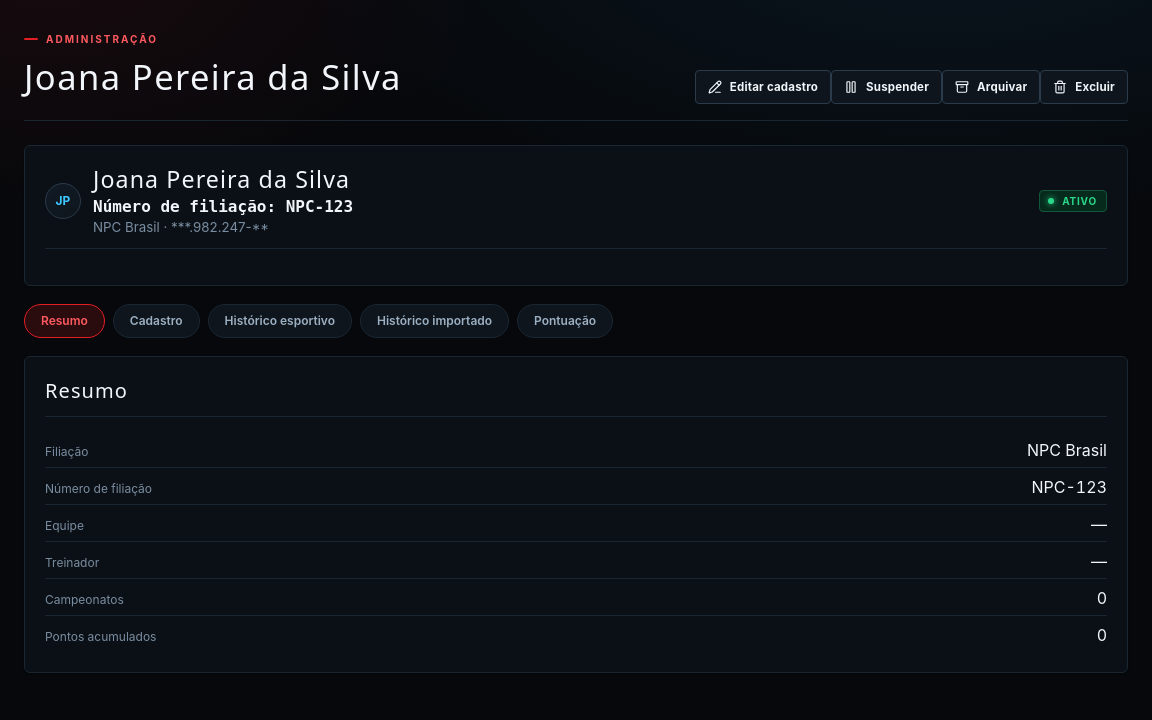
Test: a coluna de pontos diz a pontuação oficial, não a do arquivo › o campeonato vem do lançamento, e vence o nome digitado no arquivo
The width and height of the screenshot is (1152, 720).
Click the button "Histórico importado".
click(435, 321)  # box top-left (360, 304), bottom-right (509, 338)
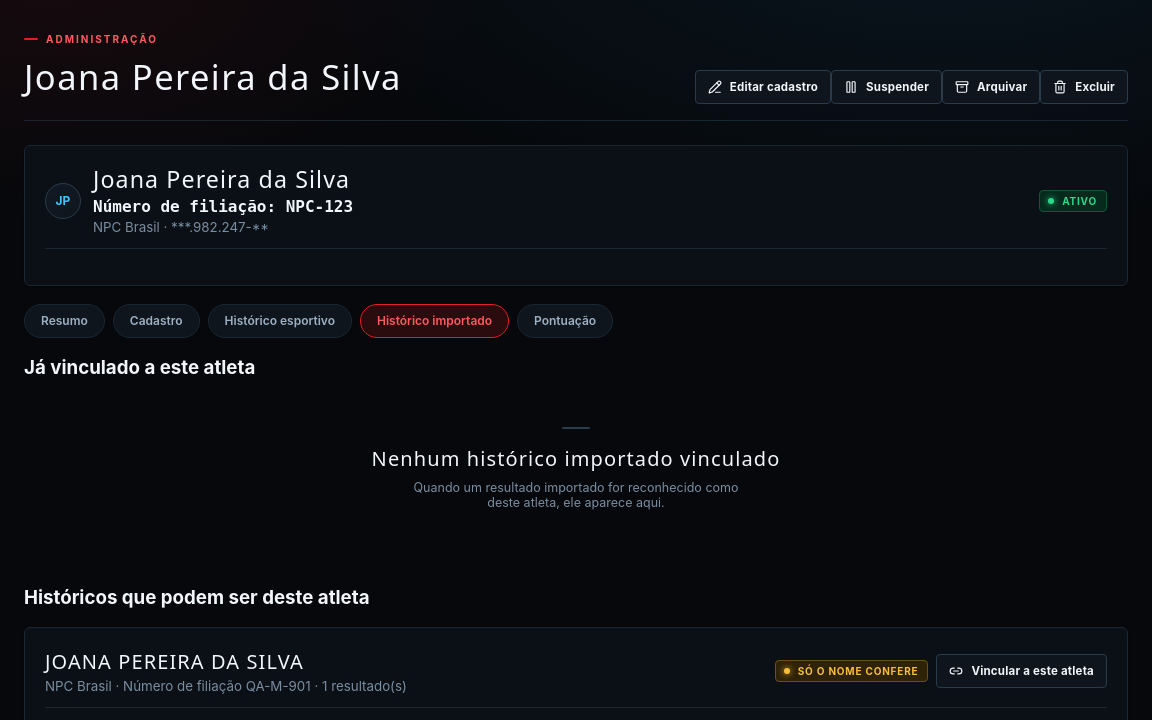
Click the button "Vincular a este atleta".
click(1022, 671)  # box top-left (936, 654), bottom-right (1107, 688)
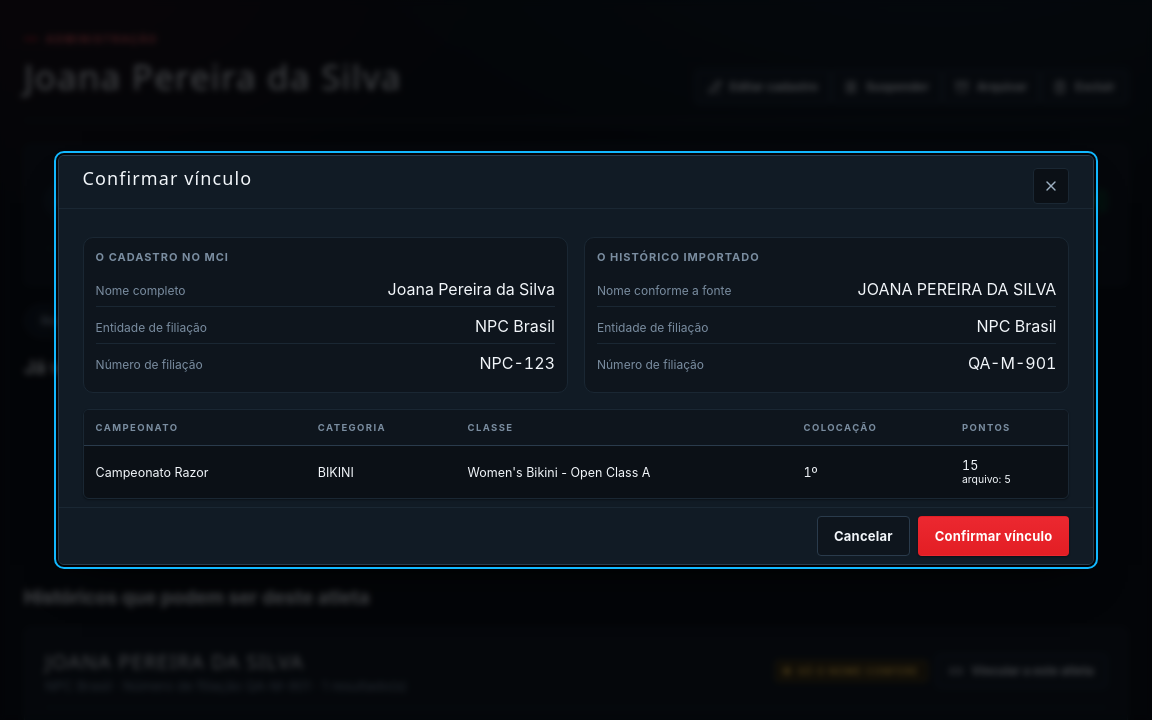
Expected: the text "Campeonato Razor" is shown, top-left (84, 446), bottom-right (306, 498)
